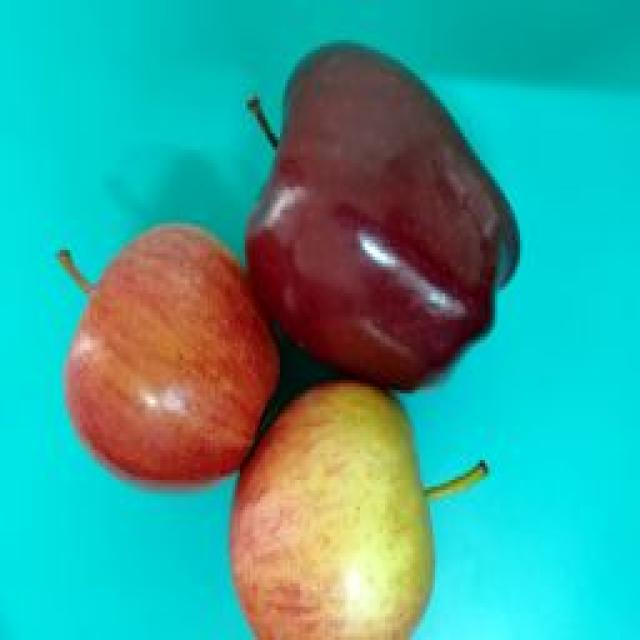Good_Apple: (245, 40, 522, 390), (228, 377, 485, 640), (58, 223, 282, 497)
